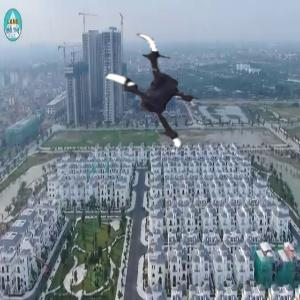drone: (86, 31, 212, 157)
